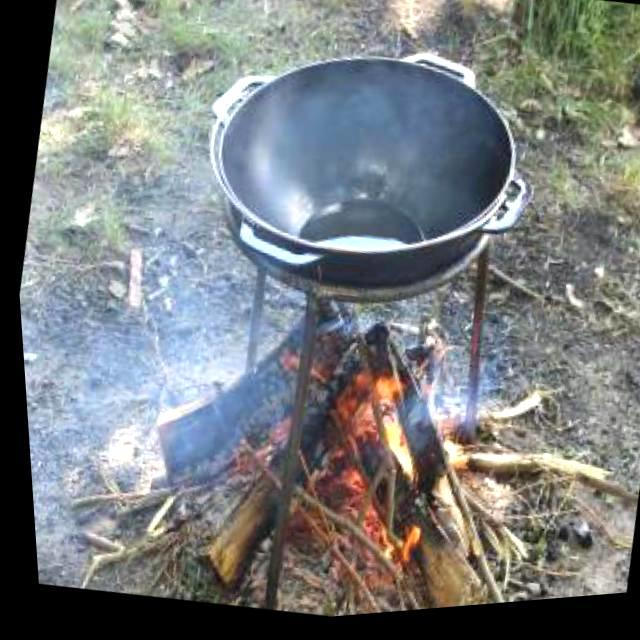fire: (349, 369, 433, 503), (358, 514, 426, 586)
